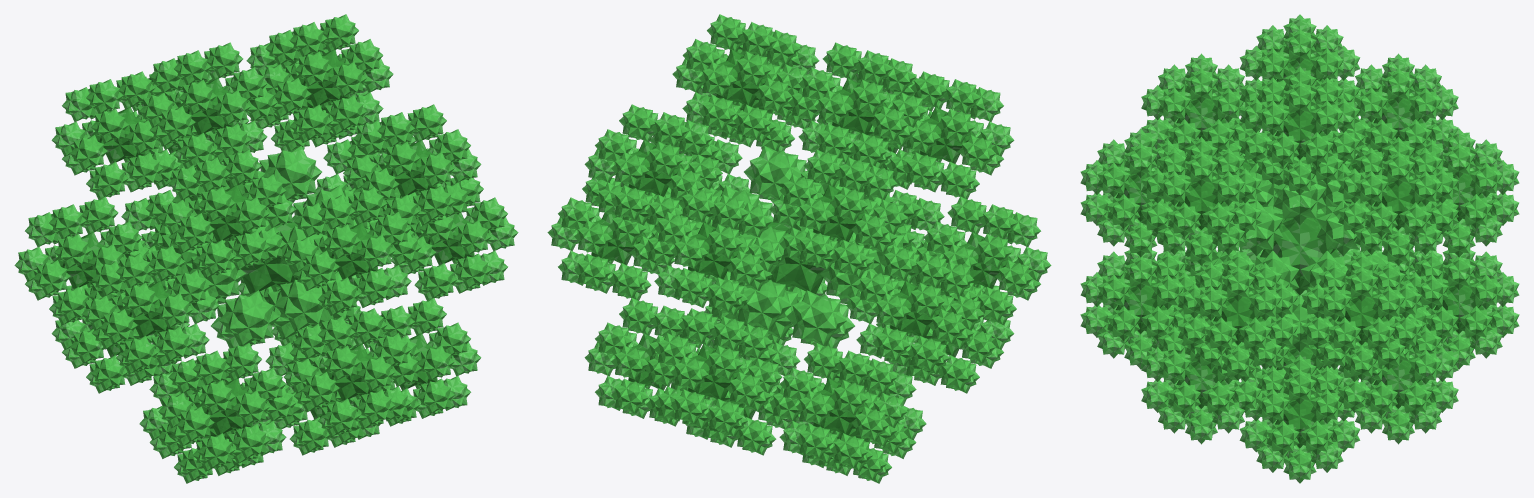
The model's file is fractalrhombicosacron2.glb.
3 renders of one model, left to right at view 1: azimuth 30°, elevation 25°; view 2: azimuth 150°, elevation 25°; view 3: azimuth 270°, elevation 25°, orthographic. The views are drawn at different scales.
Size of the model in its own units: 11.28 by 11.28 by 11.28.
